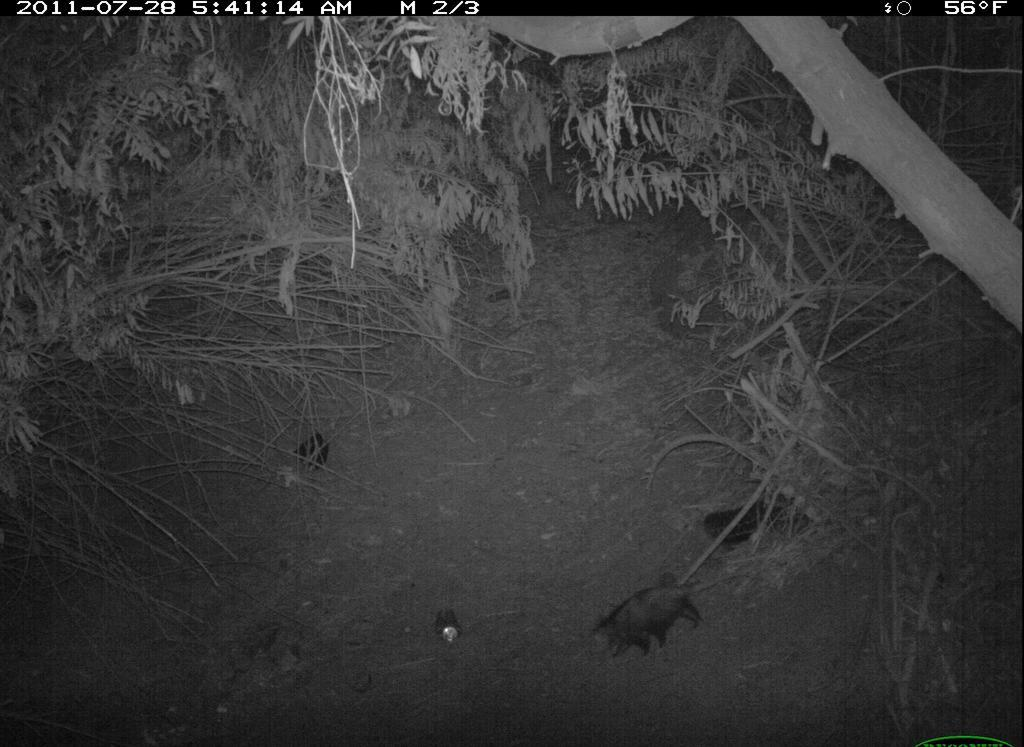opossum: (588, 571, 722, 665)
